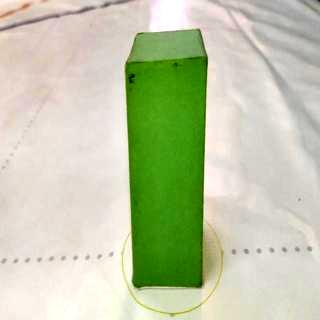greenbox: (124, 29, 210, 288)
